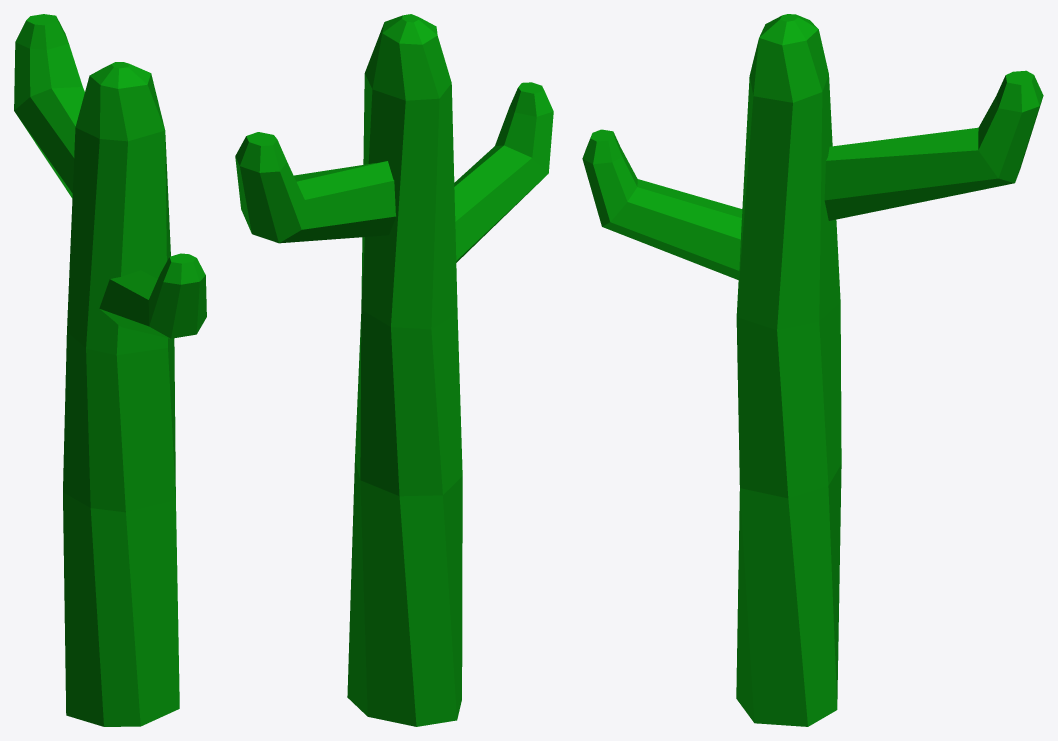
The model's file is Cactus2.fbx.
3 renders of one model, left to right at view 1: azimuth 30°, elevation 25°; view 2: azimuth 150°, elevation 25°; view 3: azimuth 270°, elevation 25°, orthographic. The views are drawn at different scales.
Parts seen in each view (by area): view 1: Cactus3; view 2: Cactus3; view 3: Cactus3.
Part boxes in pixels (x1,y1,x2,y2): Cactus3: [14, 14, 206, 726]; Cactus3: [235, 14, 553, 726]; Cactus3: [582, 14, 1043, 726].
Size of the model in its own units: 85.56 by 474 by 290.
